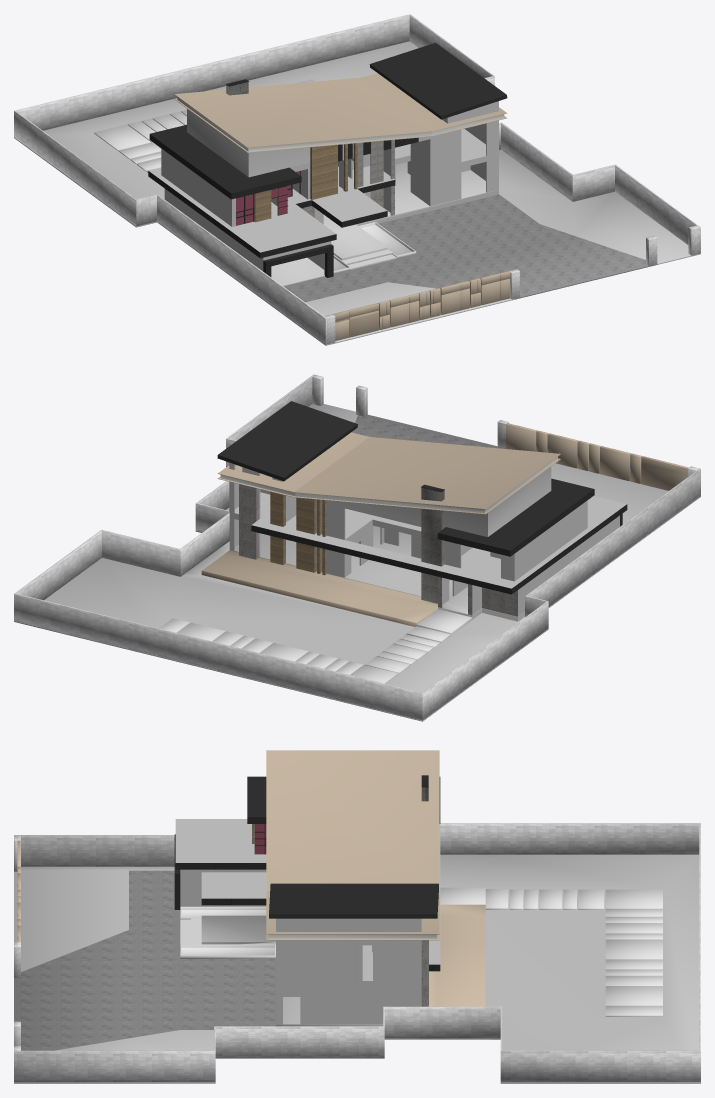
The model's file is MCHouse-Full.fbx.
The picture shows the model from 3 angles, top to bottom: view 1: azimuth 30°, elevation 25°; view 2: azimuth 150°, elevation 25°; view 3: azimuth 270°, elevation 25°; orthographic projection. The views are drawn at different scales.
Visible parts, largest first — view 1: MCHouse-GrassFloor, MCHouse-WallOutside, Mesh757.001, Plane.004, Plane.003, MCHouse-WallDepan, Plane.007, MCHouse-Lantai1, MCHouse-Lantai1.001, Plane.008, Mesh296.002, MCHouse-WallAcc (+5 smaller); view 2: MCHouse-WallOutside, MCHouse-GrassFloor, Mesh757.001, MCHouse-Lantai1, Plane.004, MCHouse-WallAcc, Plane.007, MCHouse-WallDepan, MCHouse-Lantai1.001, MCHouse-StoneTaman1, Plane.003, Plane.008 (+3 smaller); view 3: MCHouse-GrassFloor, MCHouse-WallOutside, Mesh757.001, MCHouse-StoneTaman1, Plane.004, MCHouse-Lantai1, Plane.003, Plane.007, MCHouse-Lantai1.001, MCHouse-PotKolamDepan.001, Plane.008, MCHouse-WallDepan (+4 smaller).
Boxes of the visible parts, x1,y1,x2,y2 form: MCHouse-GrassFloor: [14, 41, 700, 345]; MCHouse-WallOutside: [14, 14, 700, 344]; Mesh757.001: [174, 73, 507, 152]; Plane.004: [148, 129, 498, 258]; Plane.003: [161, 101, 498, 226]; MCHouse-WallDepan: [324, 225, 699, 344]; Plane.007: [369, 42, 507, 119]; MCHouse-Lantai1: [271, 162, 498, 286]; MCHouse-Lantai1.001: [164, 158, 498, 274]; Plane.008: [149, 124, 301, 199]; Mesh296.002: [187, 109, 406, 177]; MCHouse-WallAcc: [226, 79, 357, 222]; MCHouse-WallOutside: [14, 374, 700, 720]; MCHouse-GrassFloor: [14, 404, 700, 721]; Mesh757.001: [217, 432, 560, 514]; MCHouse-Lantai1: [201, 525, 524, 626]; Plane.004: [229, 492, 627, 594]; MCHouse-WallAcc: [239, 484, 444, 603]; Plane.007: [217, 401, 357, 481]; MCHouse-WallDepan: [312, 375, 699, 490]; MCHouse-Lantai1.001: [229, 515, 619, 616]; MCHouse-StoneTaman1: [159, 618, 440, 683]; Plane.003: [229, 462, 587, 581]; Plane.008: [437, 478, 594, 556]; MCHouse-GrassFloor: [14, 854, 700, 1083]; MCHouse-WallOutside: [14, 823, 700, 1082]; Mesh757.001: [266, 750, 439, 940]; MCHouse-StoneTaman1: [509, 889, 662, 1016]; Plane.004: [175, 819, 440, 987]; MCHouse-Lantai1: [201, 904, 485, 1026]; Plane.003: [254, 824, 421, 981]; Plane.007: [269, 883, 438, 918]; MCHouse-Lantai1.001: [180, 869, 421, 1024]; MCHouse-PotKolamDepan.001: [180, 944, 275, 958]; Plane.008: [247, 776, 440, 823]; MCHouse-WallDepan: [14, 835, 20, 1050].
Bounding box in the file's own units: 4730 × 1310 × 6012.
